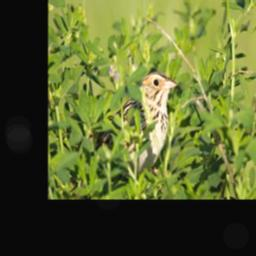Sparrow: (89, 69, 179, 185)
